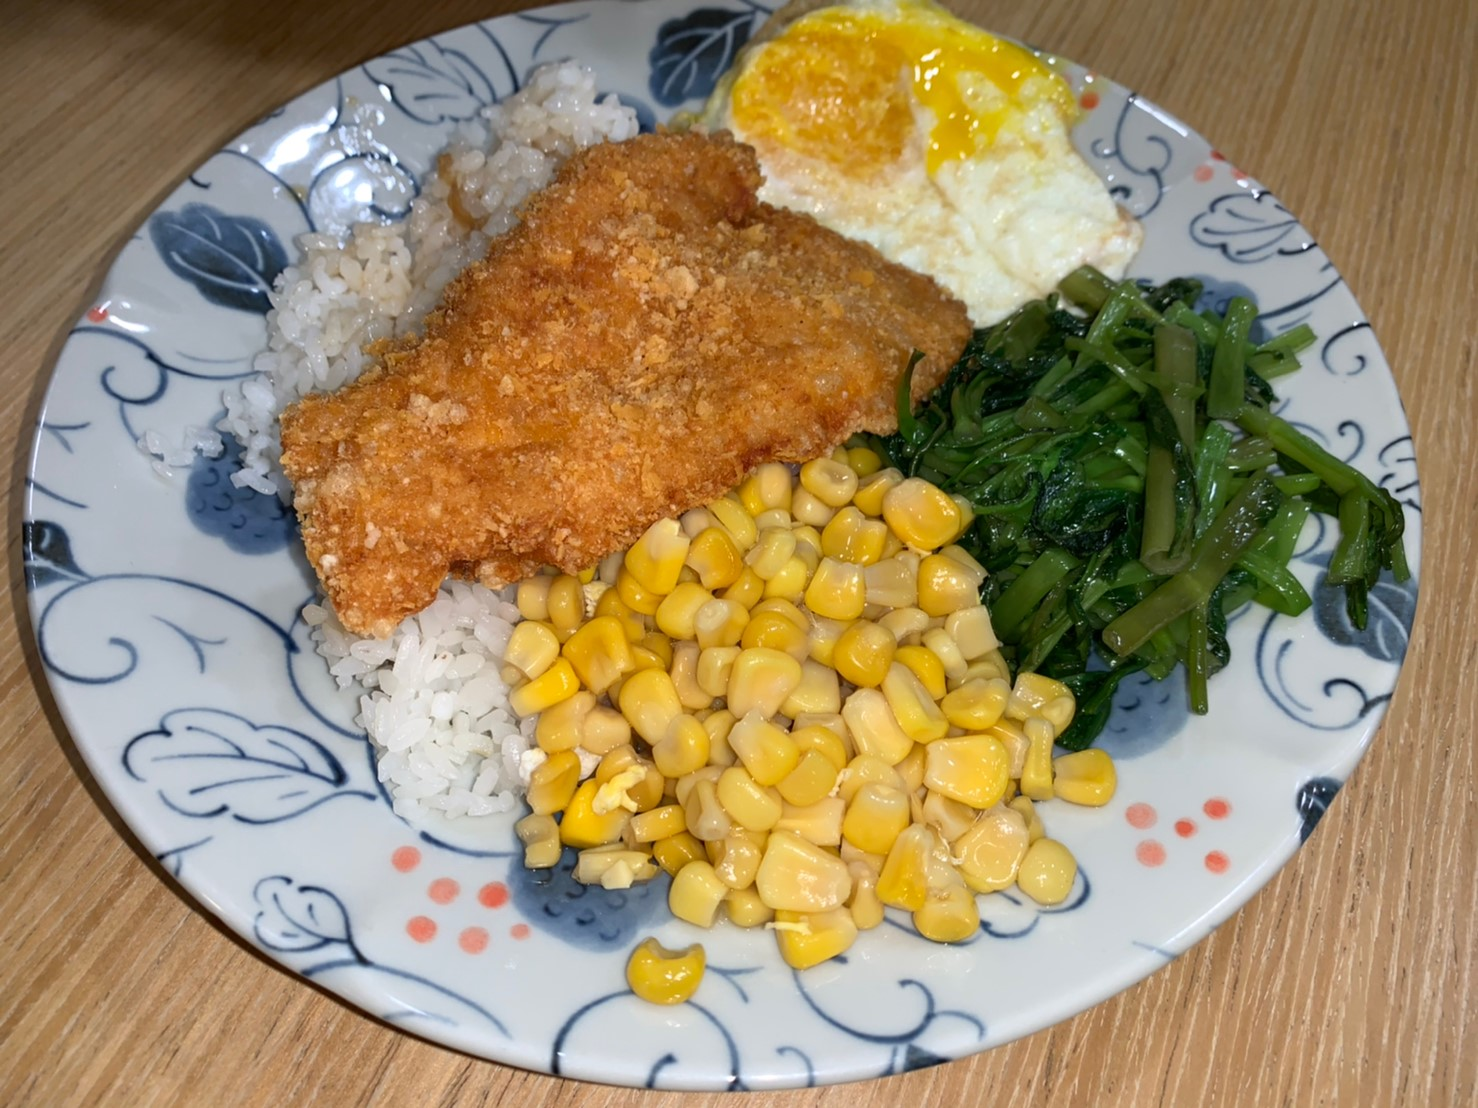fried_chicken: (301, 138, 959, 612)
fried_eggs: (720, 1, 1132, 292)
rice: (335, 578, 527, 828)
water_spinach: (917, 289, 1344, 692)
